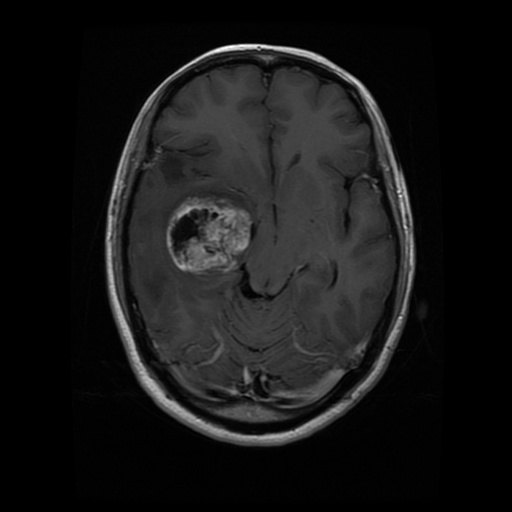glioma: (166, 187, 255, 276)
